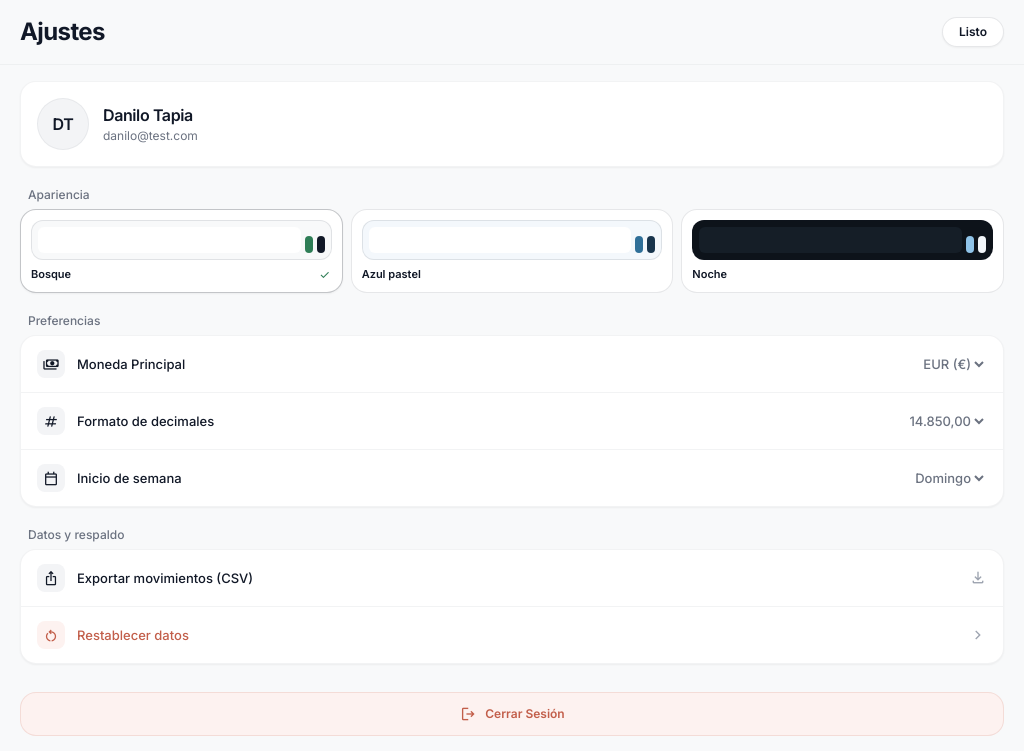
SettingsScreen › guarda la preferencia de moneda
Expected: the heading "Danilo Tapia" is shown, [103,105,193,125]
Select "GBP (£)" in the dropdown in the row of "Moneda Principal" at [950, 364], box [914,355,987,373]
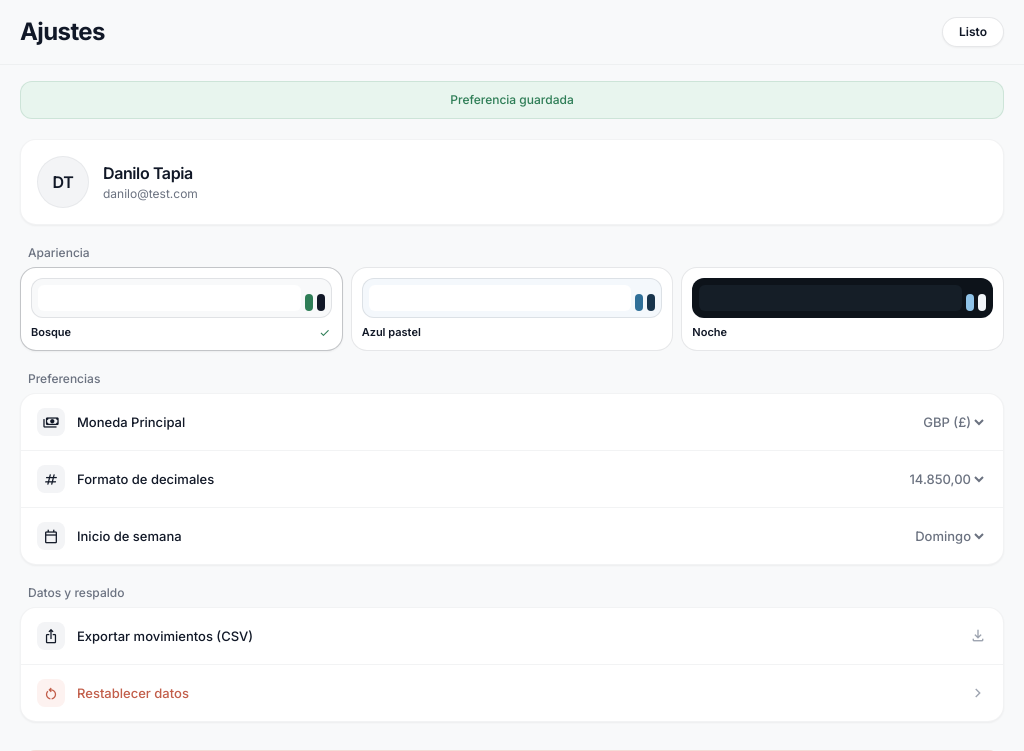
Expected: the text "Preferencia guardada" is shown, [20,81,1004,119]
